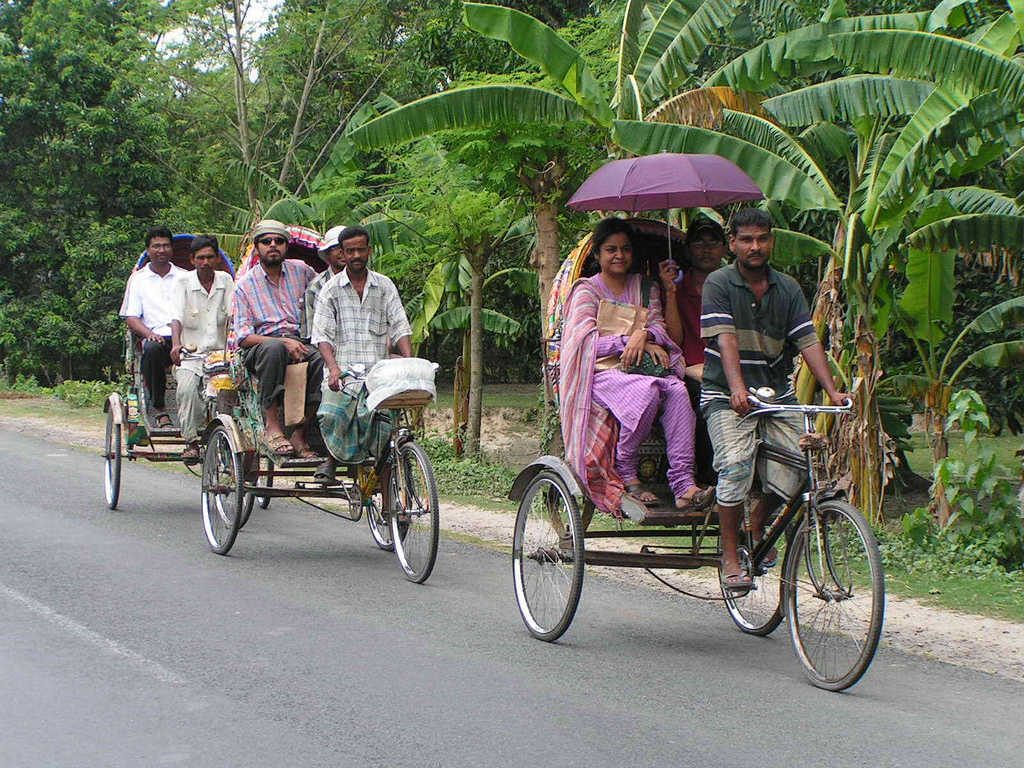Rickshaw: (536, 207, 894, 682), (216, 224, 438, 581), (111, 214, 245, 506)
